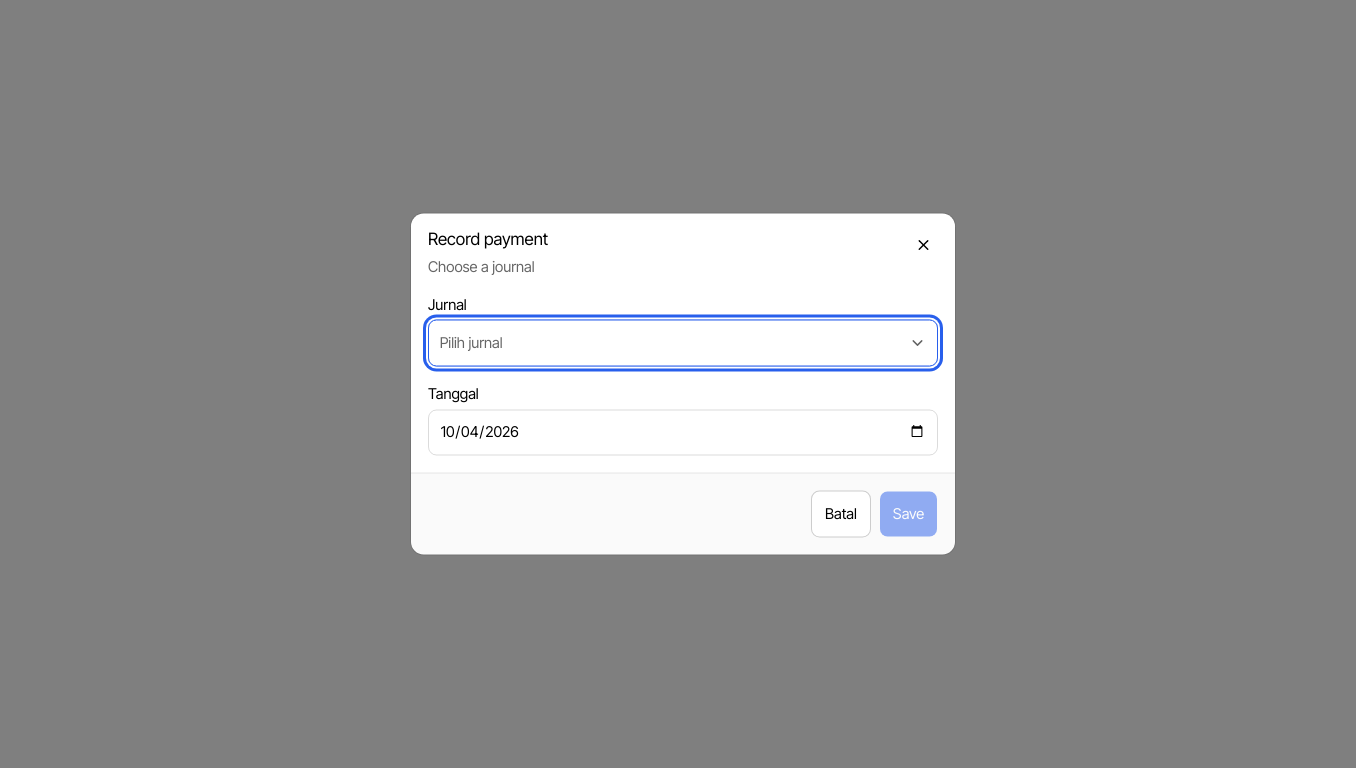
Test: PaymentDialog › renders the title and keeps confirm disabled until a journal is picked
Expected: the heading "Record payment" is shown, [428,228,548,248]
Expected: the text "Choose a journal" is shown, [428,257,534,275]
Click the dropdown labelled "jurnal": (471, 342) [428,320,938,367]
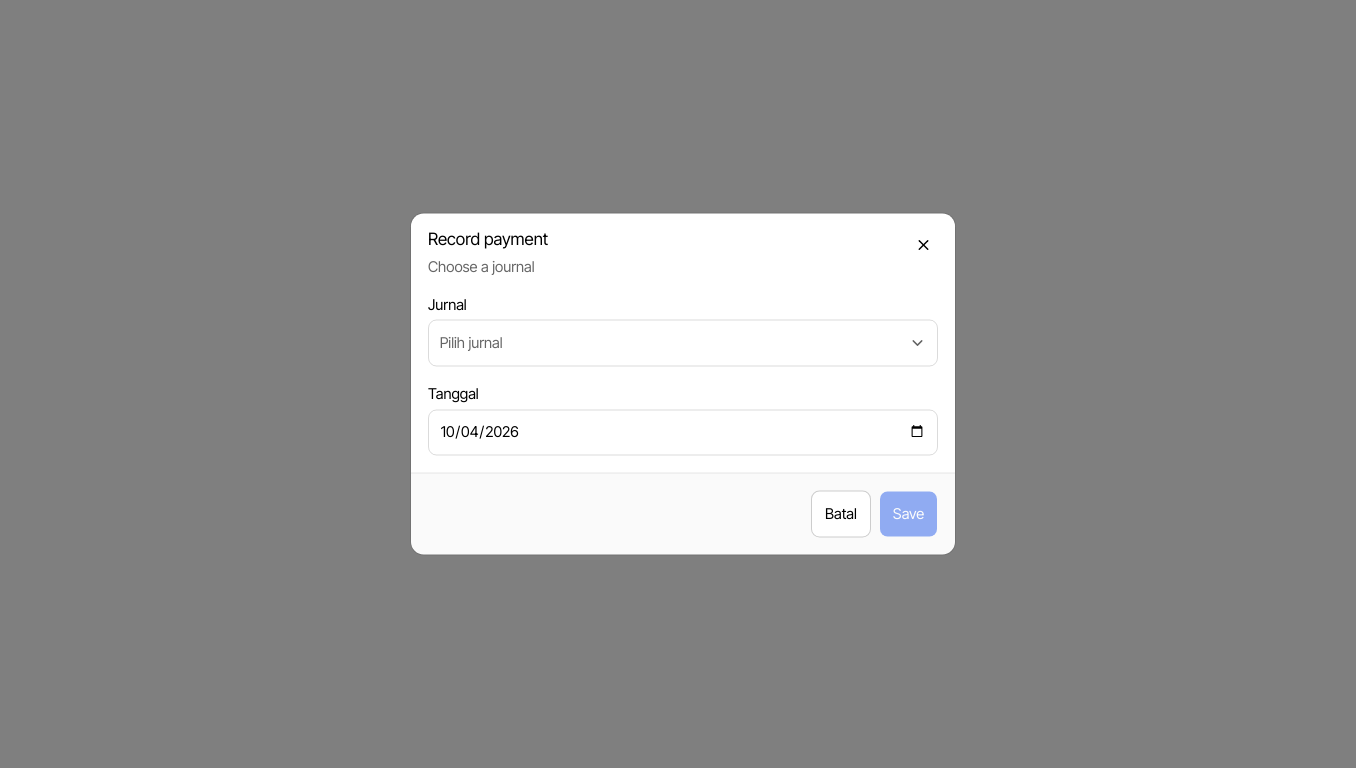
Expected: the option "Cash — cash" is shown, [434,385,520,403]
Press Arrowdown
Press Enter
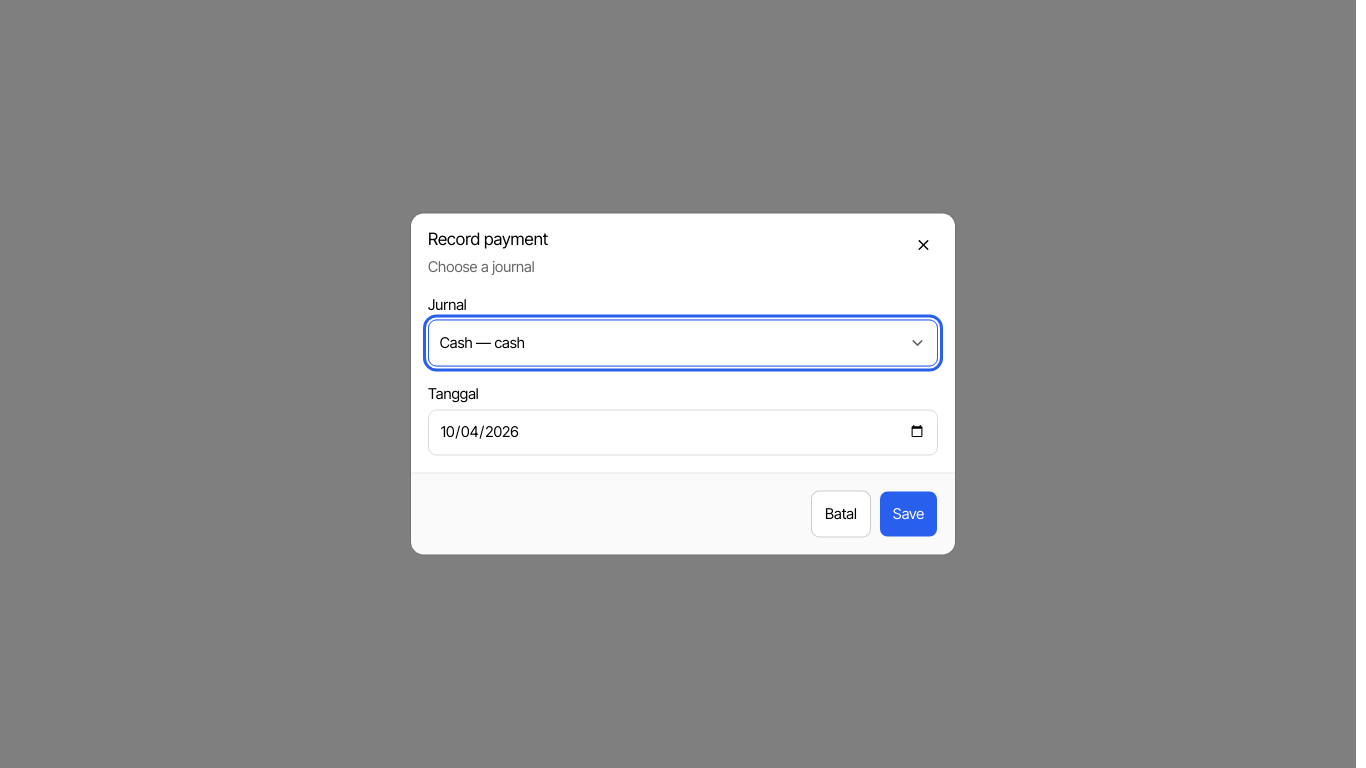
Result: the button "Save" is enabled at [879,491,938,538]
